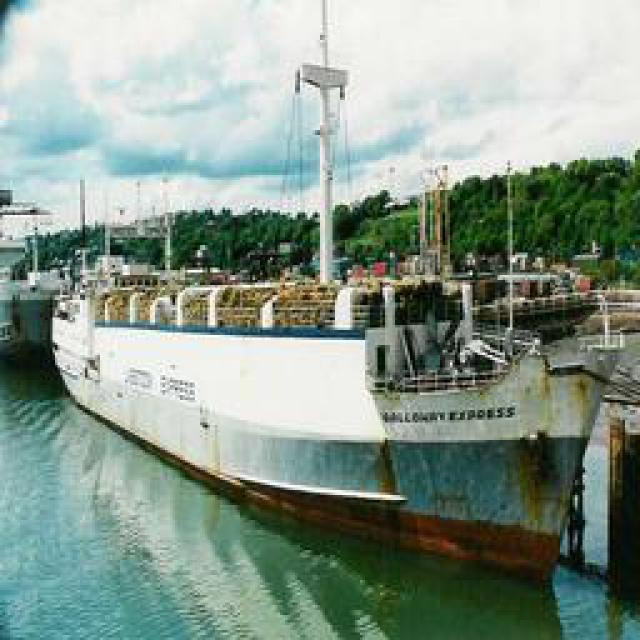Ship: (40, 164, 618, 584)
